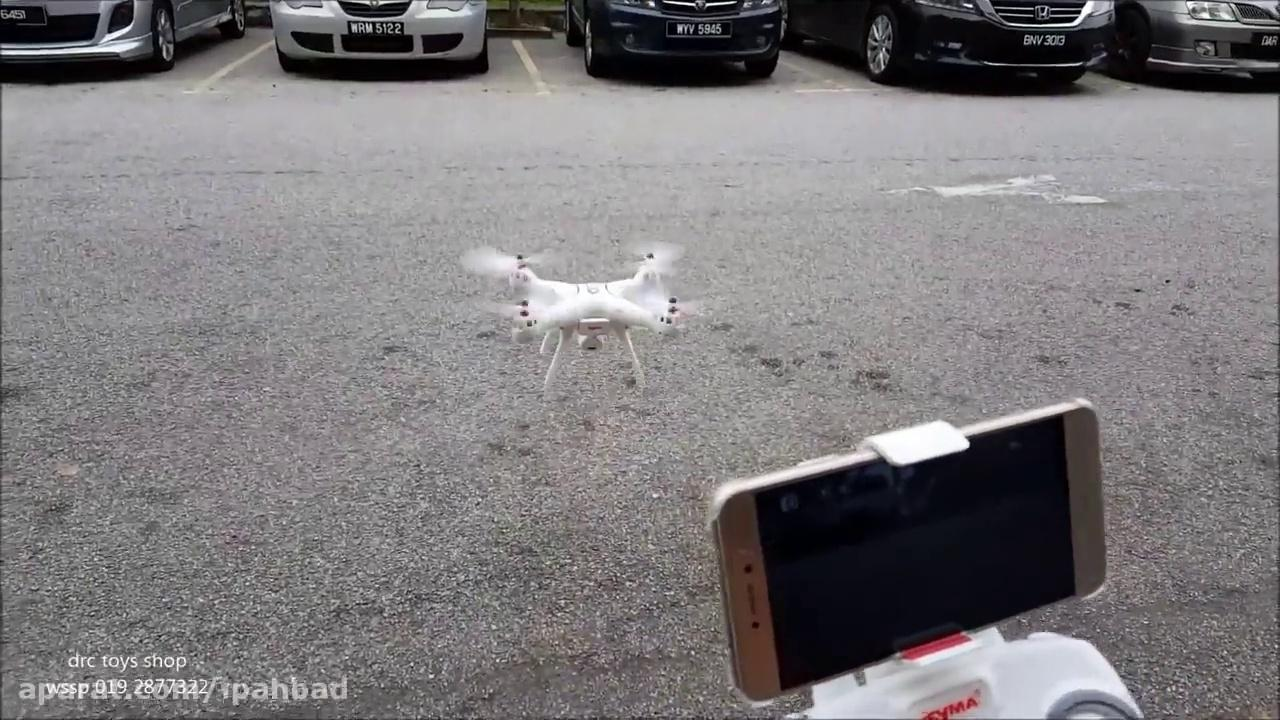drone: (458, 231, 713, 399)
